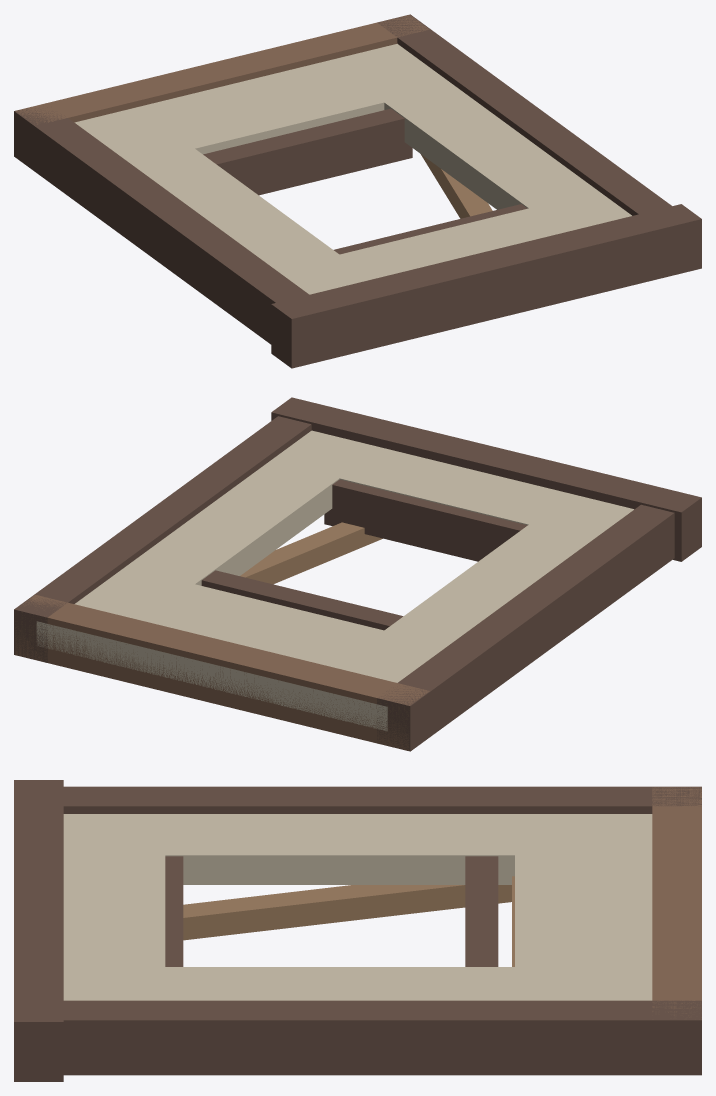
The model's file is tier02_half_timber_wall_with_window.glb.
3 views of the same model, one above another, from view 1: azimuth 30°, elevation 25°; view 2: azimuth 150°, elevation 25°; view 3: azimuth 270°, elevation 25° (orthographic). The views are drawn at different scales.
Parts seen in each view (by area): view 1: tier02_half_timber_wall_with_window_008, tier02_half_timber_wall_with_window_006, tier02_half_timber_wall_with_window_001, tier02_half_timber_wall_with_window_002, tier02_half_timber_wall_with_window_000, tier02_half_timber_wall_with_window_007, tier02_half_timber_wall_with_window_003, tier02_half_timber_wall_with_window_009, tier02_half_timber_wall_with_window_004, tier02_half_timber_wall_with_window_012, tier02_half_timber_wall_with_window_005; view 2: tier02_half_timber_wall_with_window_006, tier02_half_timber_wall_with_window_002, tier02_half_timber_wall_with_window_009, tier02_half_timber_wall_with_window_001, tier02_half_timber_wall_with_window_000, tier02_half_timber_wall_with_window_003, tier02_half_timber_wall_with_window_008, tier02_half_timber_wall_with_window_007, tier02_half_timber_wall_with_window_005, tier02_half_timber_wall_with_window_004, tier02_half_timber_wall_with_window_012; view 3: tier02_half_timber_wall_with_window_007, tier02_half_timber_wall_with_window_000, tier02_half_timber_wall_with_window_002, tier02_half_timber_wall_with_window_001, tier02_half_timber_wall_with_window_003, tier02_half_timber_wall_with_window_006, tier02_half_timber_wall_with_window_008, tier02_half_timber_wall_with_window_009, tier02_half_timber_wall_with_window_011, tier02_half_timber_wall_with_window_004, tier02_half_timber_wall_with_window_005.
Part boxes in pixels (x1,y1,x2,y2): tier02_half_timber_wall_with_window_008: (271,204,701,368); tier02_half_timber_wall_with_window_006: (14,107,332,364); tier02_half_timber_wall_with_window_001: (327,43,629,232); tier02_half_timber_wall_with_window_002: (75,45,449,163); tier02_half_timber_wall_with_window_000: (74,107,371,294); tier02_half_timber_wall_with_window_007: (377,14,694,275); tier02_half_timber_wall_with_window_003: (278,191,631,292); tier02_half_timber_wall_with_window_009: (16,15,429,124); tier02_half_timber_wall_with_window_004: (203,108,412,195); tier02_half_timber_wall_with_window_012: (421,154,492,218); tier02_half_timber_wall_with_window_005: (334,204,527,254); tier02_half_timber_wall_with_window_006: (377,504,674,751); tier02_half_timber_wall_with_window_002: (36,575,446,731); tier02_half_timber_wall_with_window_009: (15,594,429,750); tier02_half_timber_wall_with_window_001: (74,430,380,621); tier02_half_timber_wall_with_window_000: (334,494,632,682); tier02_half_timber_wall_with_window_003: (270,430,633,539); tier02_half_timber_wall_with_window_008: (271,397,701,561); tier02_half_timber_wall_with_window_007: (14,416,311,662); tier02_half_timber_wall_with_window_005: (324,479,527,561); tier02_half_timber_wall_with_window_004: (201,570,403,630); tier02_half_timber_wall_with_window_012: (240,522,382,584); tier02_half_timber_wall_with_window_007: (63,1000,701,1075); tier02_half_timber_wall_with_window_000: (63,814,652,884); tier02_half_timber_wall_with_window_002: (515,814,652,1000); tier02_half_timber_wall_with_window_001: (63,967,652,1000); tier02_half_timber_wall_with_window_003: (63,814,165,1000); tier02_half_timber_wall_with_window_006: (63,786,701,813); tier02_half_timber_wall_with_window_008: (14,780,63,1081); tier02_half_timber_wall_with_window_009: (652,787,701,1019); tier02_half_timber_wall_with_window_011: (183,885,511,940); tier02_half_timber_wall_with_window_004: (465,856,498,966); tier02_half_timber_wall_with_window_005: (165,856,183,966).
Bounding box in the file's own units: 2.08 × 0.305 × 2.5.
